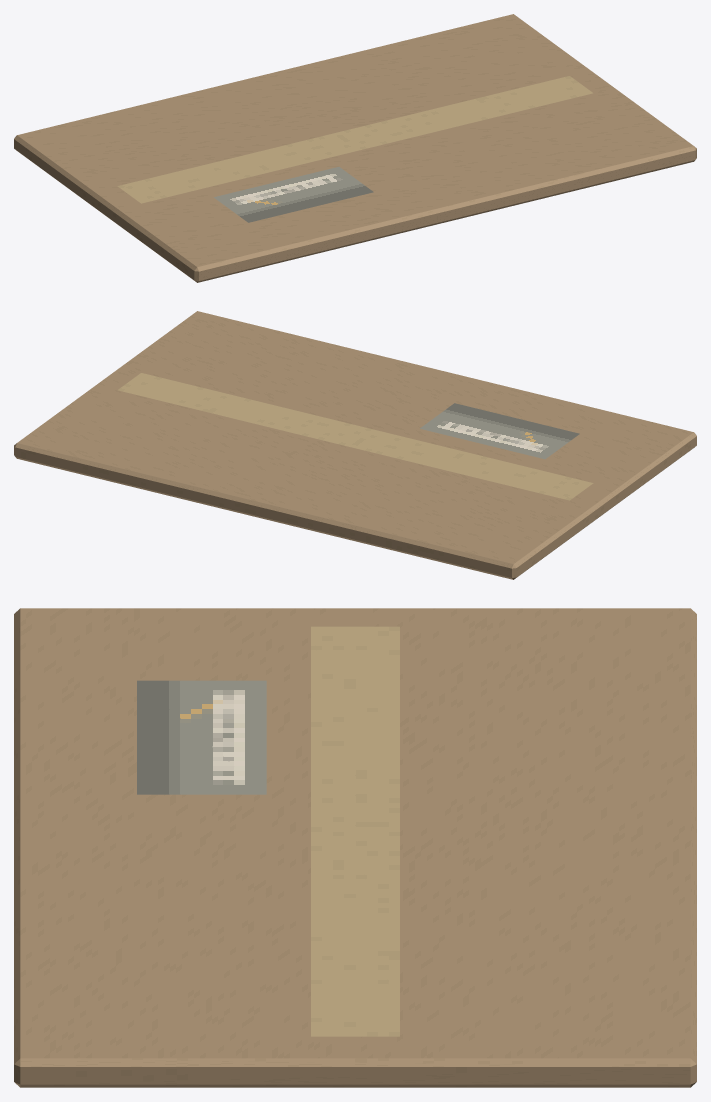
The model's file is box_small_folded.glb.
The picture shows the model from 3 angles, top to bottom: view 1: azimuth 30°, elevation 25°; view 2: azimuth 150°, elevation 25°; view 3: azimuth 270°, elevation 25°; orthographic projection. The views are drawn at different scales.
Visible parts, largest first — view 1: block_cardboard box, block_packing tape, block_shipping label; view 2: block_cardboard box, block_packing tape, block_shipping label; view 3: block_cardboard box, block_packing tape, block_shipping label.
Part boxes in pixels (x1=…): block_cardboard box: x1=14, y1=14, x2=696, y2=282; block_packing tape: x1=117, y1=76, x2=592, y2=203; block_shipping label: x1=214, y1=167, x2=373, y2=222; block_cardboard box: x1=14, y1=311, x2=696, y2=579; block_packing tape: x1=118, y1=373, x2=593, y2=500; block_shipping label: x1=420, y1=403, x2=579, y2=459; block_cardboard box: x1=14, y1=608, x2=696, y2=1087; block_packing tape: x1=311, y1=626, x2=399, y2=1036; block_shipping label: x1=137, y1=680, x2=266, y2=794.
Size of the model in its own units: 0.3 by 0.0097 by 0.19.
Materials: 1 (1 with a texture image).
